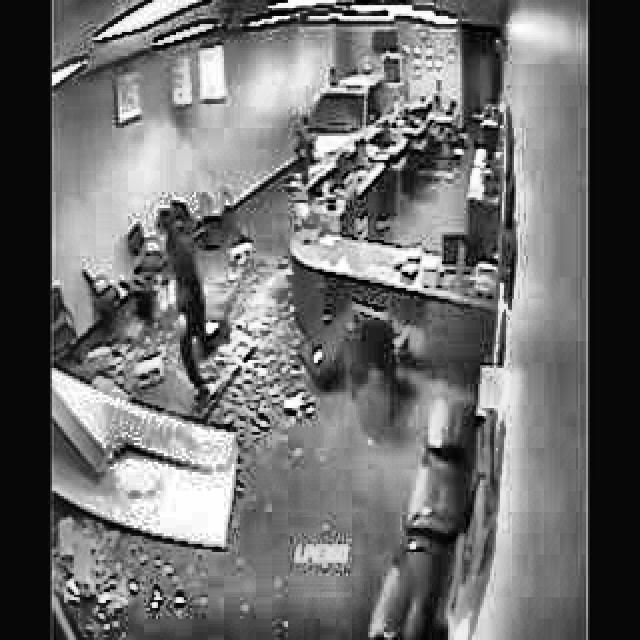Weapon: (118, 179, 310, 408)
